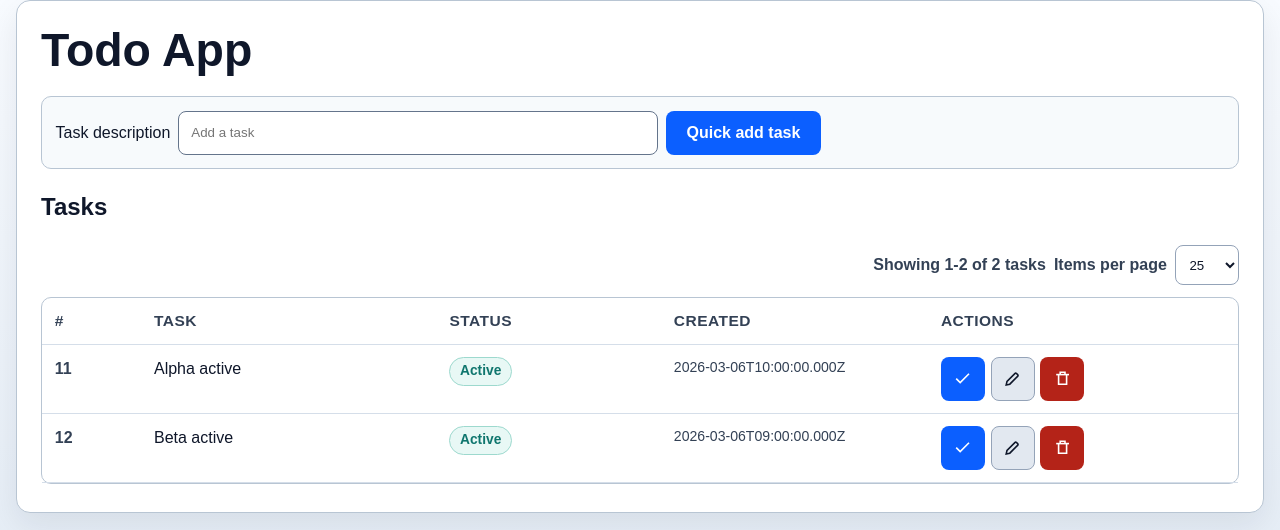
Scenario: Task list and quick-add flows › toggles a task to completed with scoped pending state and active-first ordering
Expected: the text "Alpha active" is shown, [154, 360, 241, 377]
What coordinates should you click on to do the following:
click the button named "Mark task \"Alpha active\" as complete"
I would click on:
 (963, 379)
Its box is [941, 357, 985, 401].
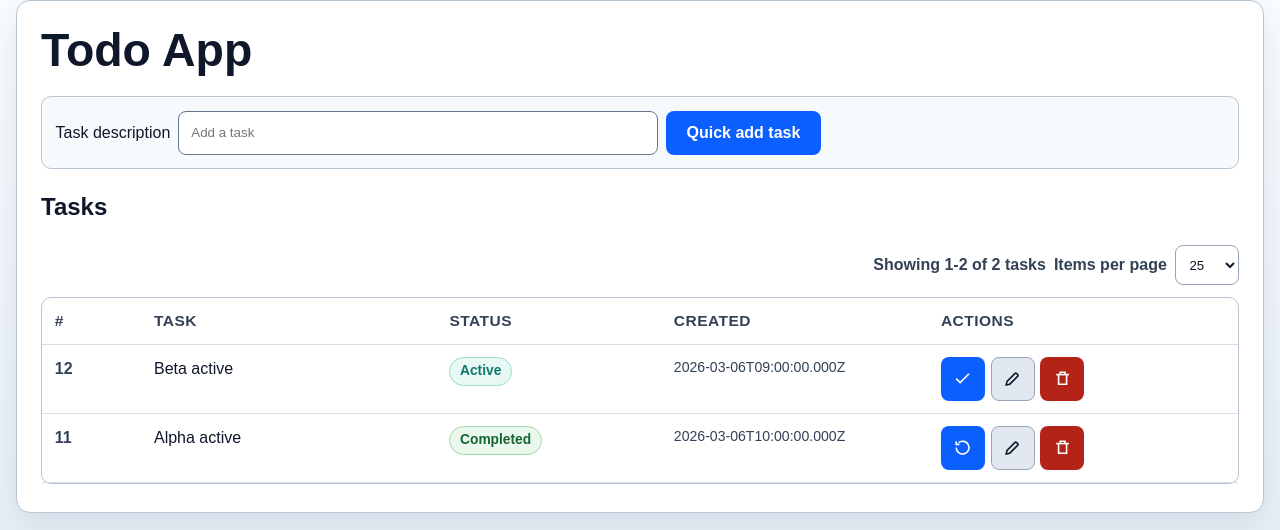
Expected: the text "Beta active" is shown, [154, 360, 233, 377]
Expected: the button named "Mark task \"Alpha active\" as active" is shown, [941, 426, 985, 470]
Expected: the text "Completed" is shown, [450, 426, 542, 455]
